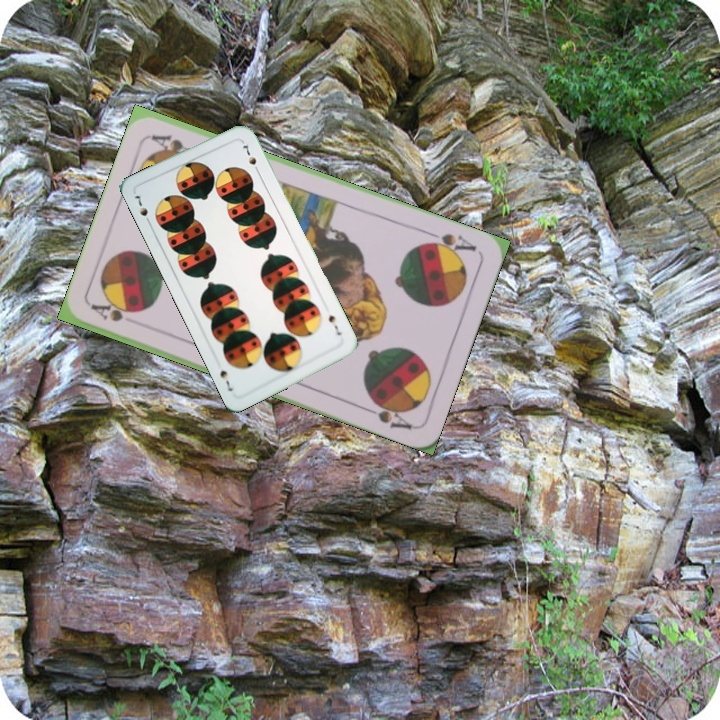S7: (130, 191, 154, 228), (324, 311, 344, 338)
SA: (421, 227, 480, 259), (87, 300, 137, 325)
